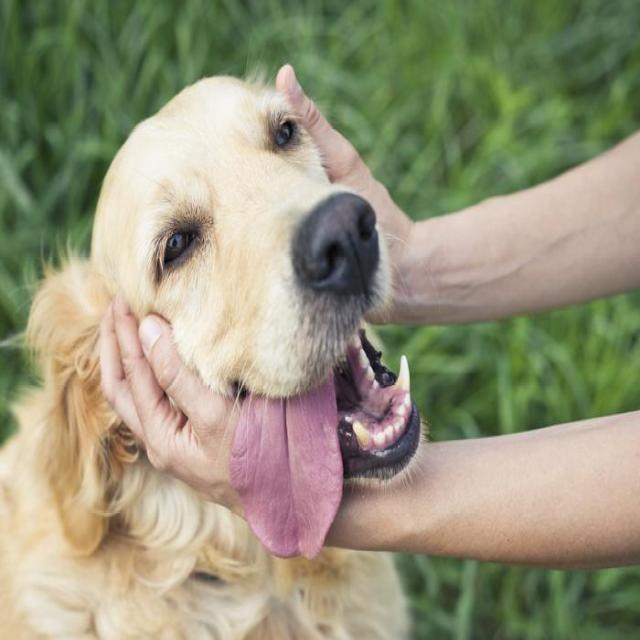Dog: (33, 50, 431, 575)
